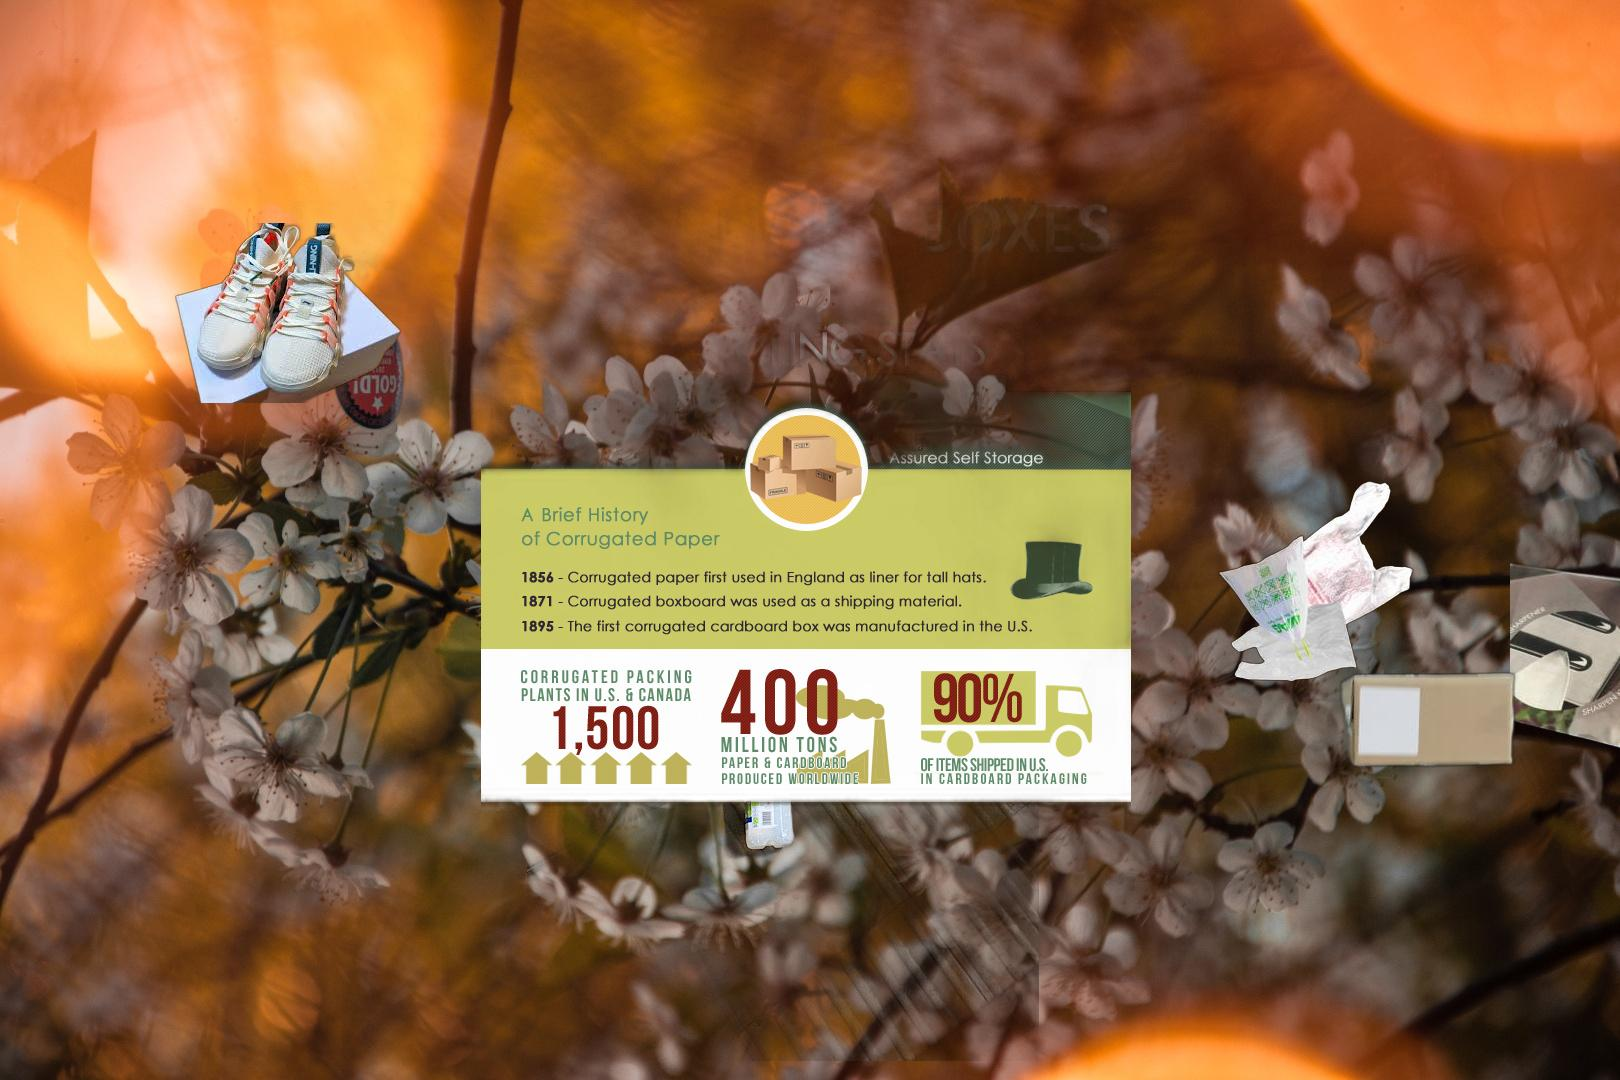glass: (181, 201, 417, 585)
paper: (1510, 559, 1620, 808)
plastic-bag: (1217, 479, 1416, 683)
plastic-bottles: (527, 378, 1039, 1061)
shoes: (174, 223, 403, 403)
trashbox-cardboard: (481, 169, 1131, 1080), (1336, 669, 1520, 770)
